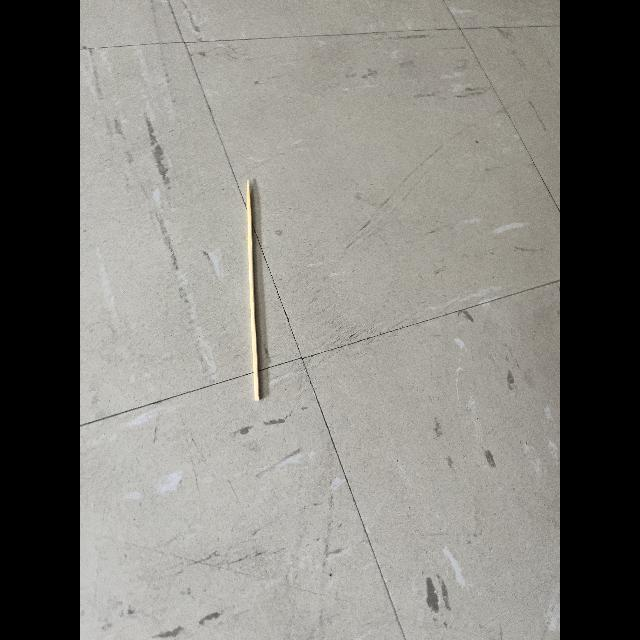stick: (231, 176, 277, 408)
